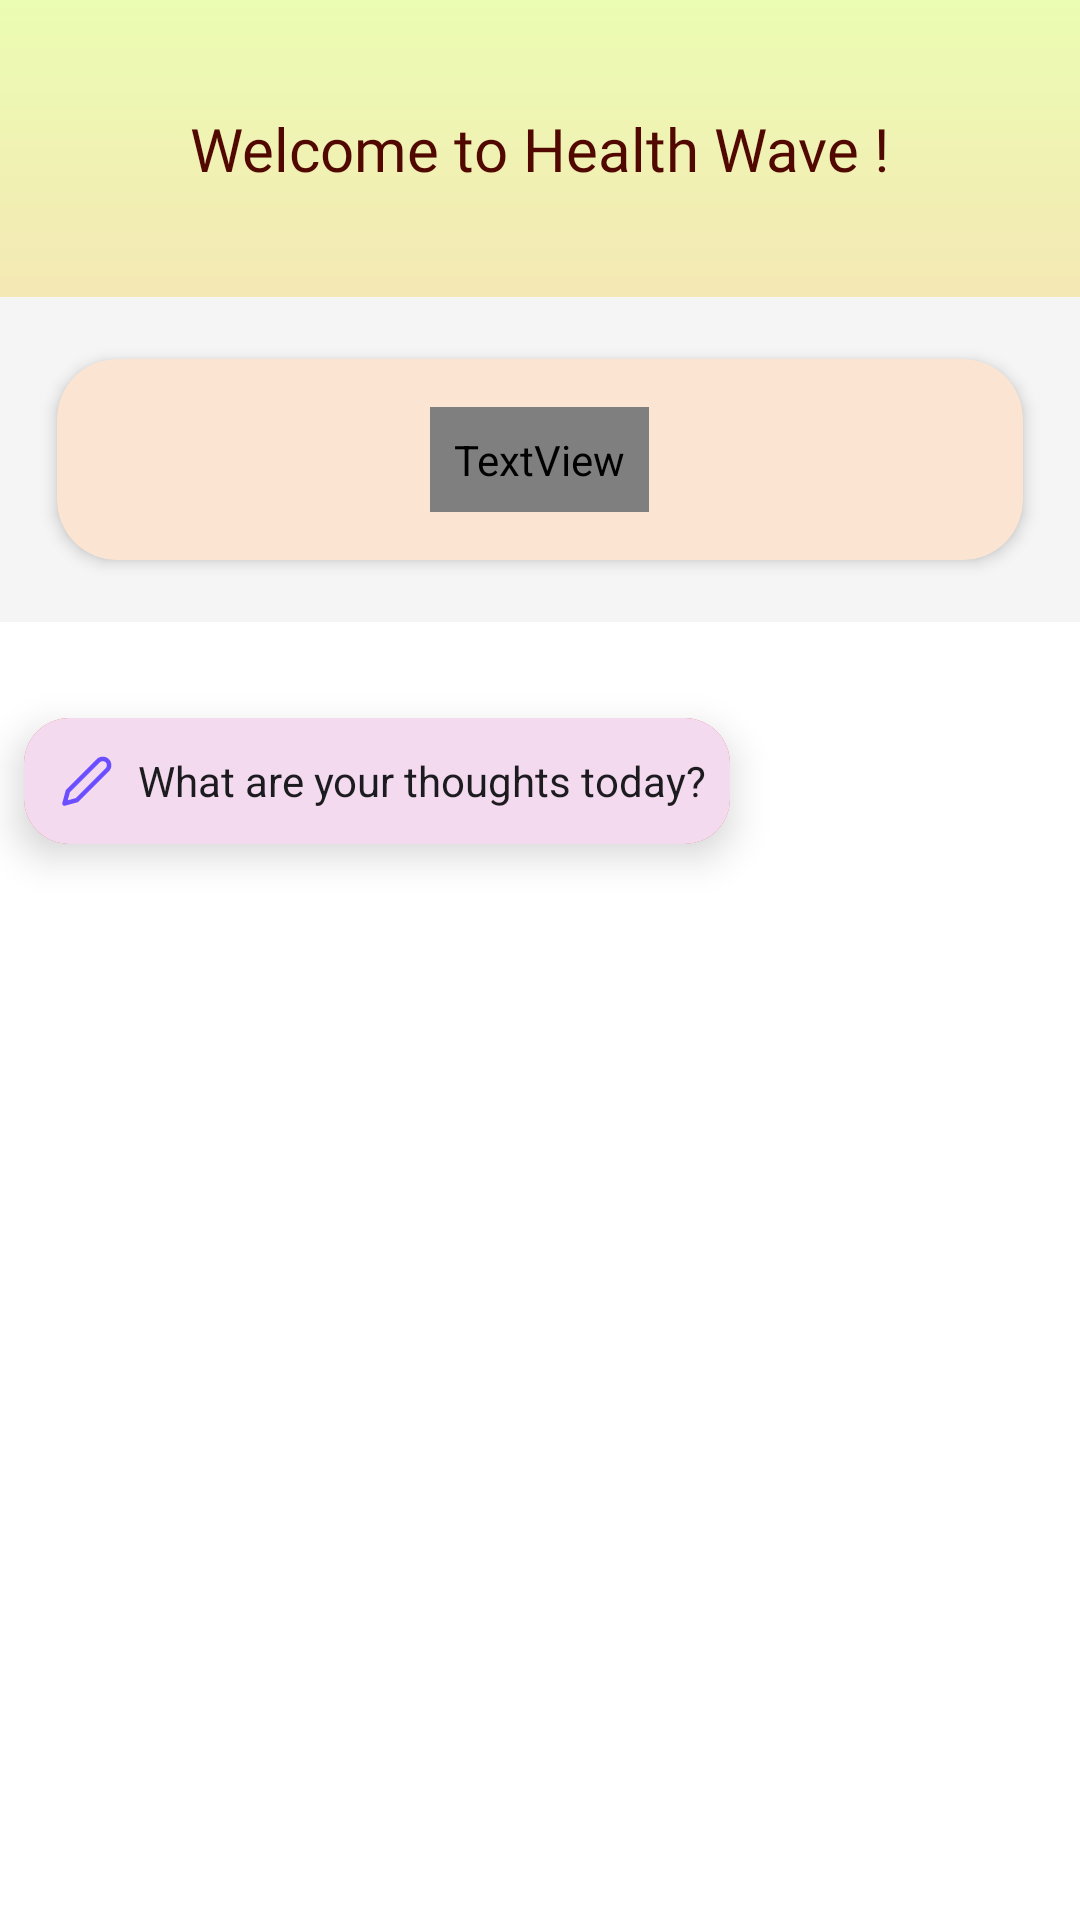

Icon click points for this 1080 × 1920 phone screenshot, format (x=x, y=y):
edit: (x=87, y=781)
